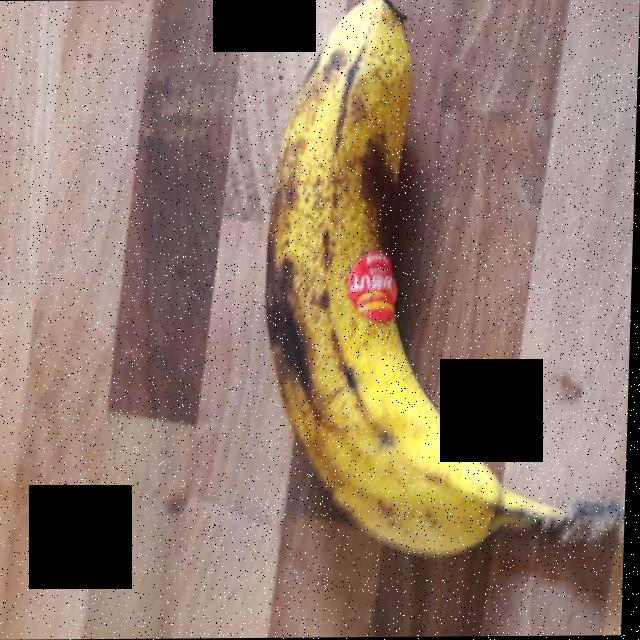banana: (278, 16, 527, 539)
